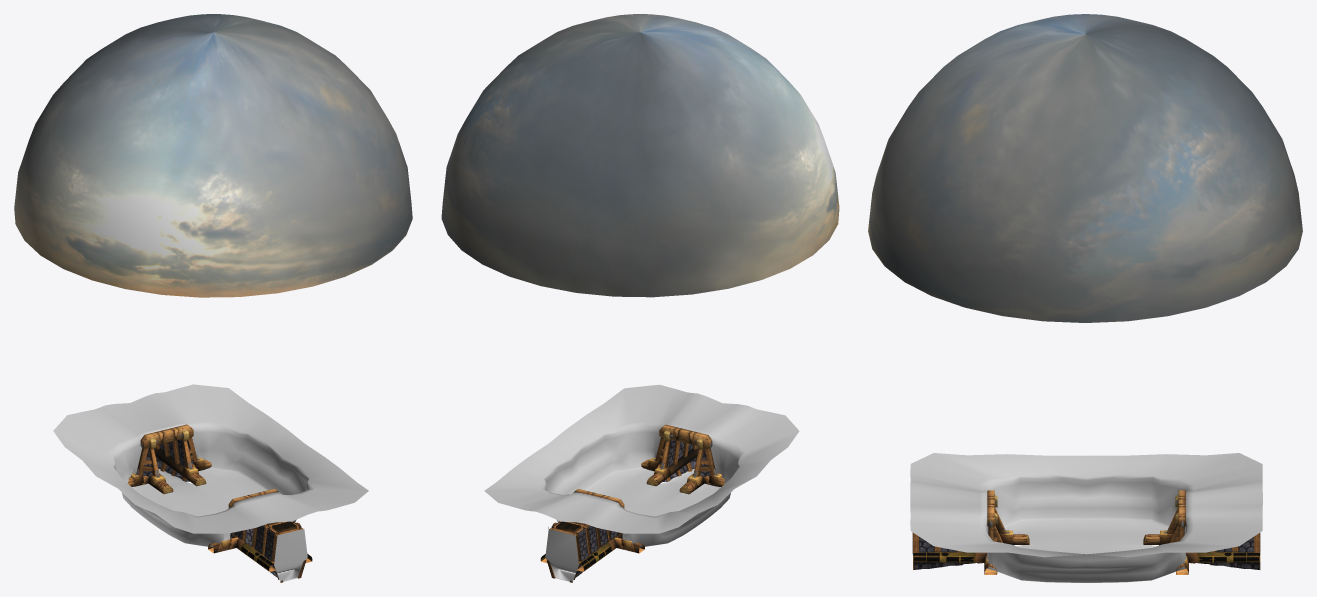
The model's file is level.FBX.
The picture shows the model from 3 angles, left to right: view 1: azimuth 30°, elevation 25°; view 2: azimuth 150°, elevation 25°; view 3: azimuth 270°, elevation 25°; orthographic projection. The views are drawn at different scales.
Parts seen in each view (by area): view 1: sky_dome, GS_test_terrain003; view 2: sky_dome, GS_test_terrain003; view 3: sky_dome, GS_test_terrain003.
Part boxes in pixels (x1,y1,x2,y2): sky_dome: [14, 14, 412, 297]; GS_test_terrain003: [53, 384, 368, 582]; sky_dome: [441, 14, 839, 297]; GS_test_terrain003: [484, 384, 799, 582]; sky_dome: [868, 14, 1302, 322]; GS_test_terrain003: [910, 453, 1262, 582].
Size of the model in its own units: 146 by 197 by 146.
